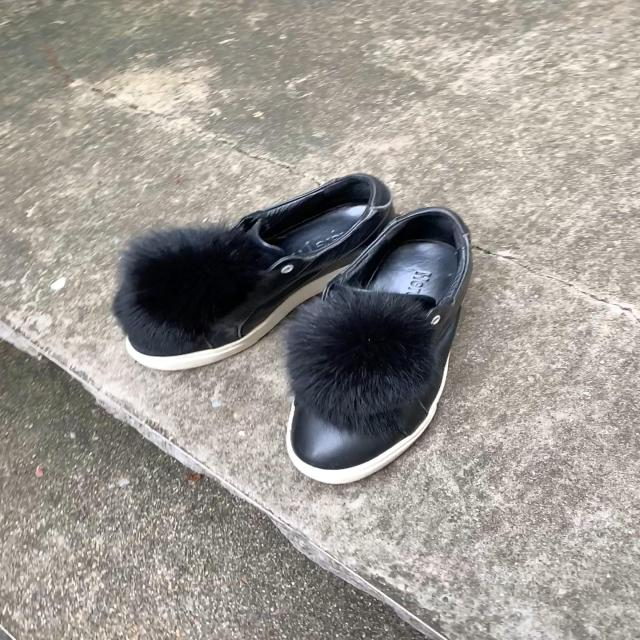shoe: (111, 173, 398, 374), (286, 208, 473, 489)
